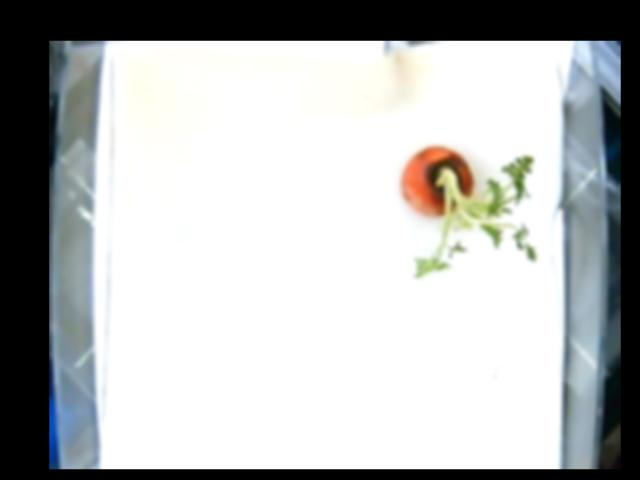Carrot: (398, 146, 540, 279)
